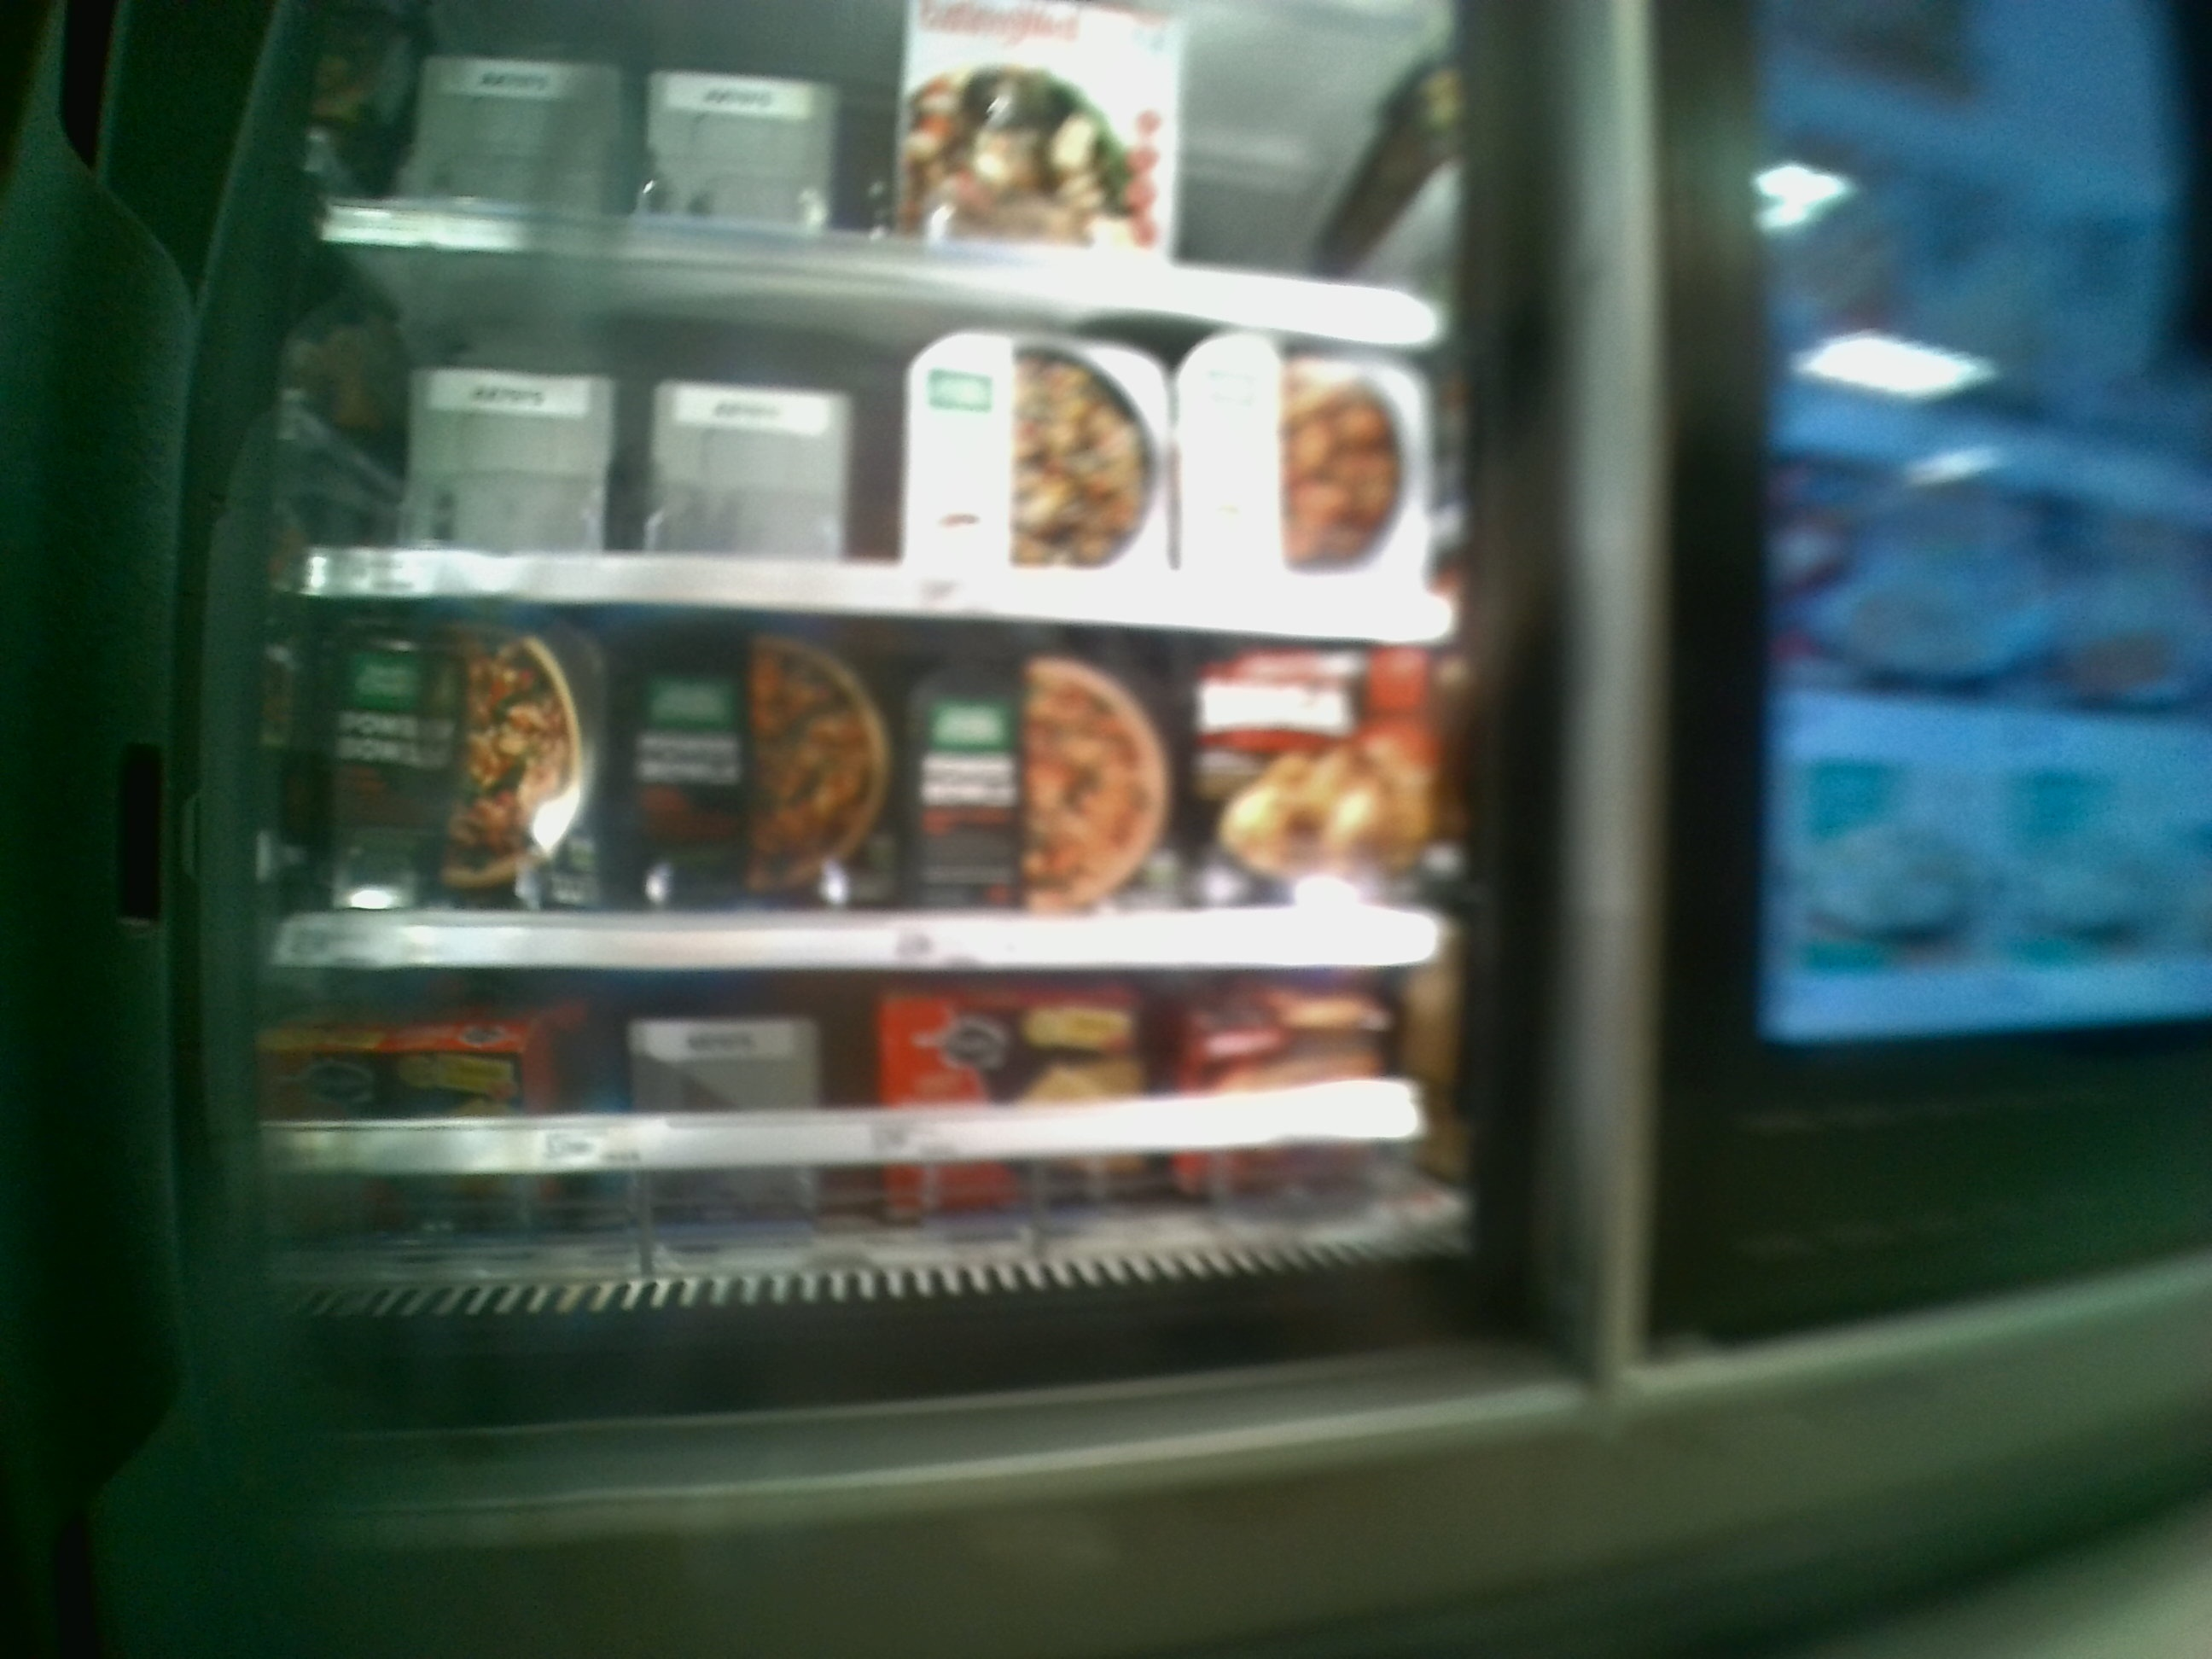Shelf: (301, 244, 1453, 636), (258, 606, 1456, 964), (254, 964, 1465, 1293)
